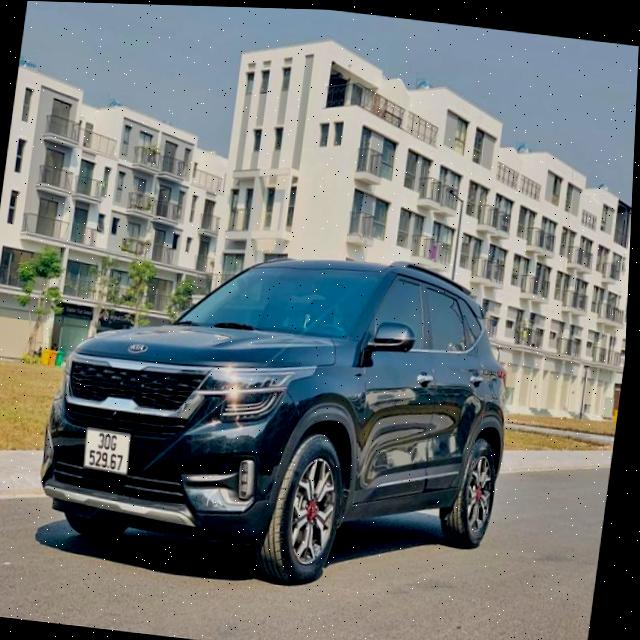car: (23, 221, 546, 618)
plate: (76, 422, 138, 478)
